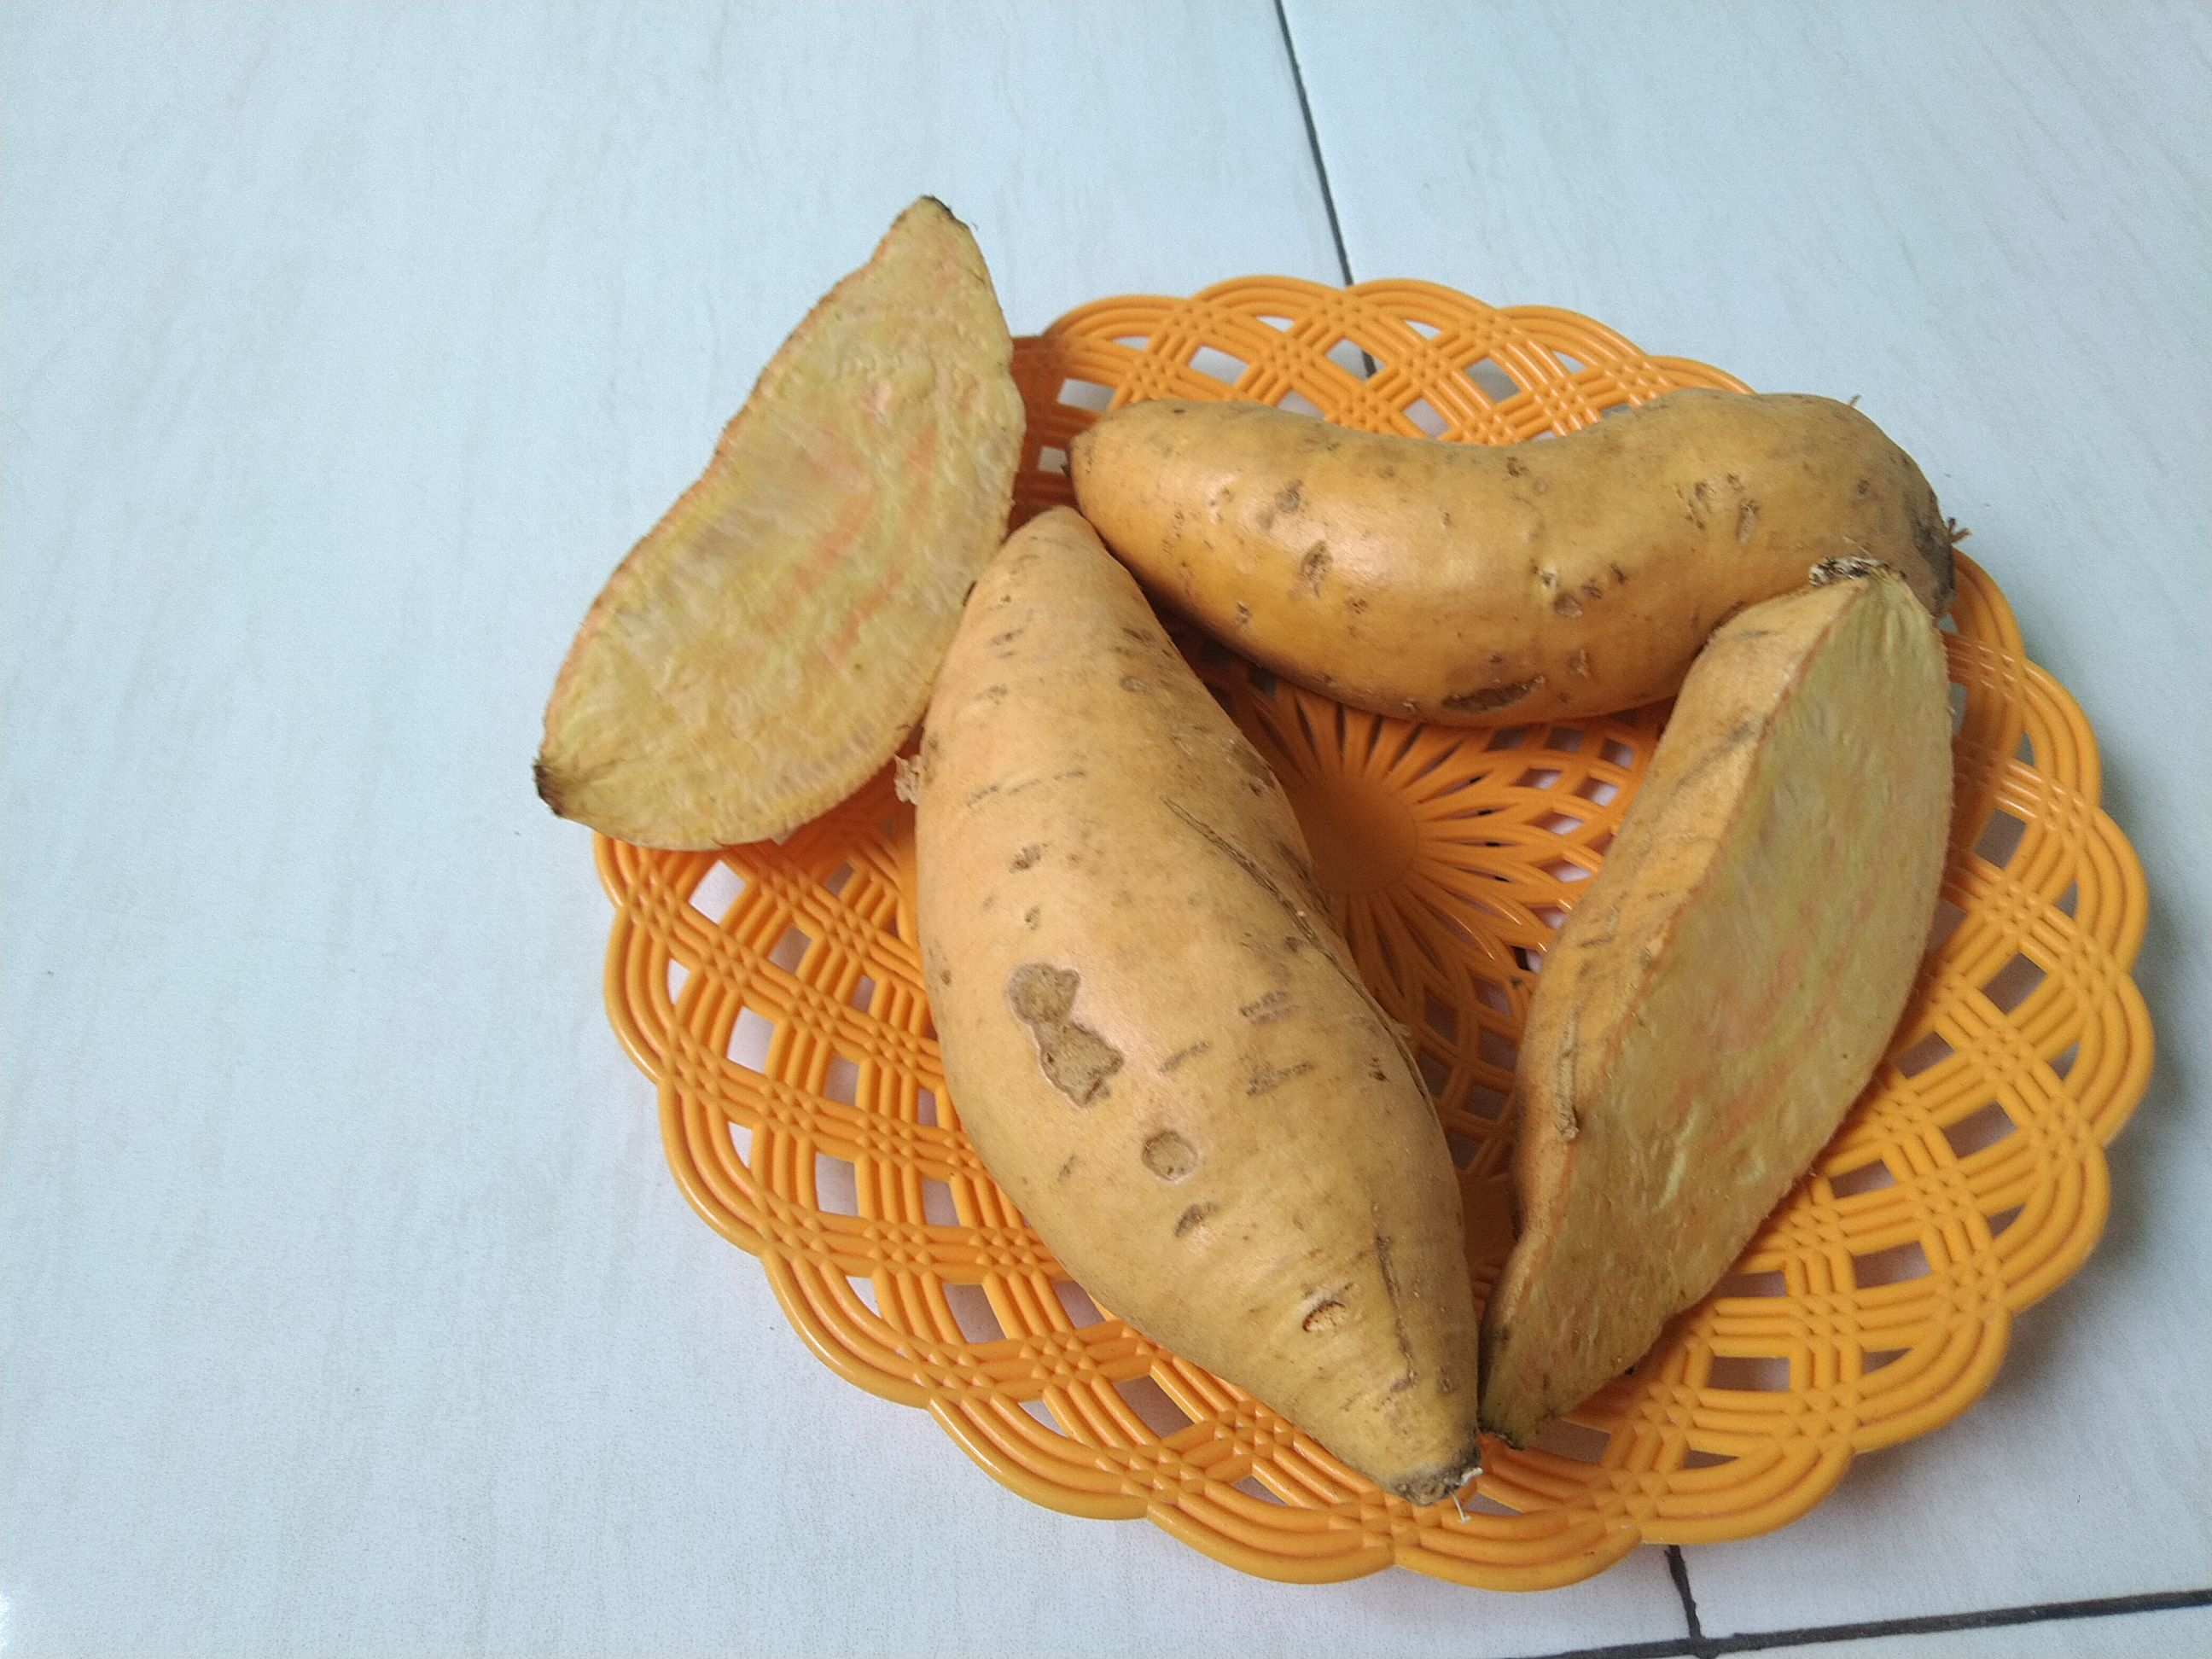ubi cilembu: (890, 484, 1498, 1509), (1467, 577, 1991, 1453), (531, 195, 1035, 861), (1059, 364, 2001, 706)
